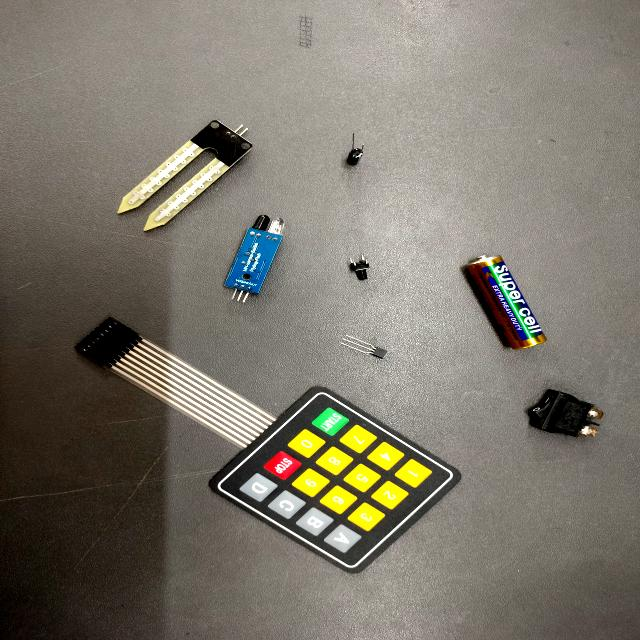capacitor: (347, 149, 362, 165)
